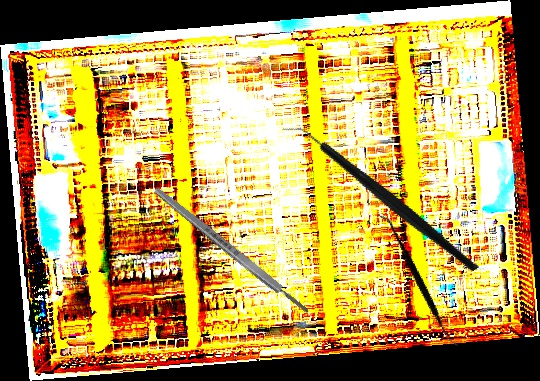Chopper: (280, 78, 480, 319)
Scalpel Handle: (151, 184, 312, 317)
Spatula Surgical: (339, 212, 496, 349)
